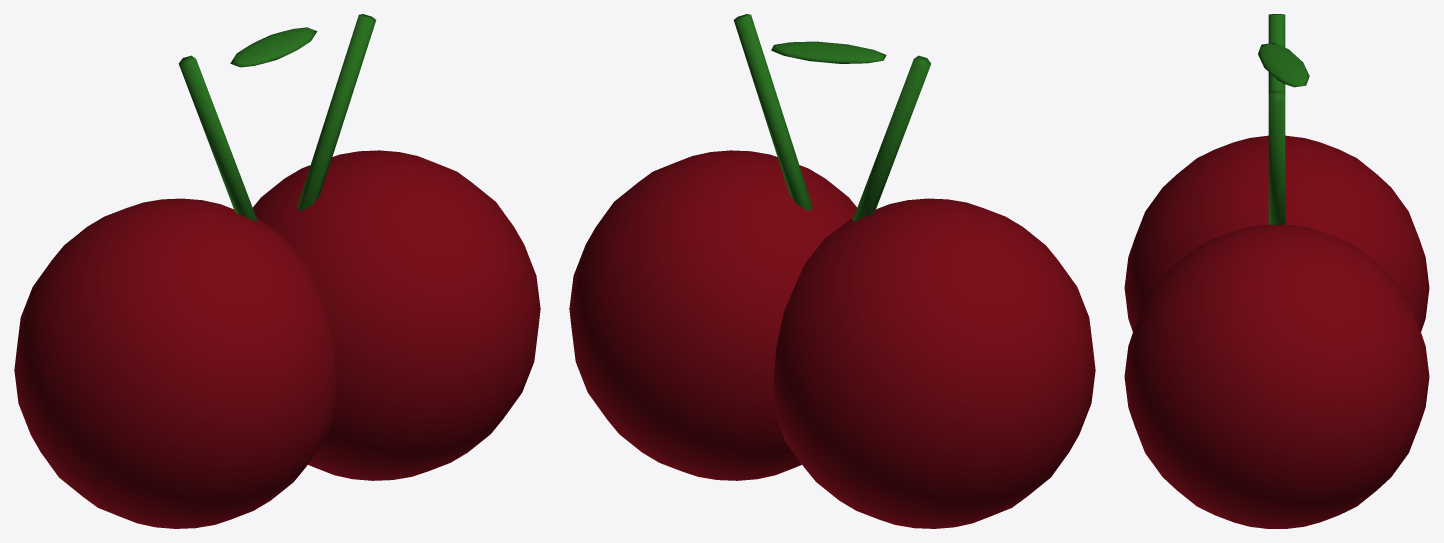
Rendered from cherry.glb.
3 renders of one model, left to right at view 1: azimuth 30°, elevation 25°; view 2: azimuth 150°, elevation 25°; view 3: azimuth 270°, elevation 25°, orthographic. The views are drawn at different scales.
Parts seen in each view (by area): view 1: cherry; view 2: cherry; view 3: cherry.
Part boxes in pixels (x1,y1,x2,y2): cherry: [14, 14, 540, 528]; cherry: [569, 14, 1095, 528]; cherry: [1124, 14, 1429, 528].
Size of the model in its own units: 1 by 0.9 by 0.5957.
1 material, 1 textured.
